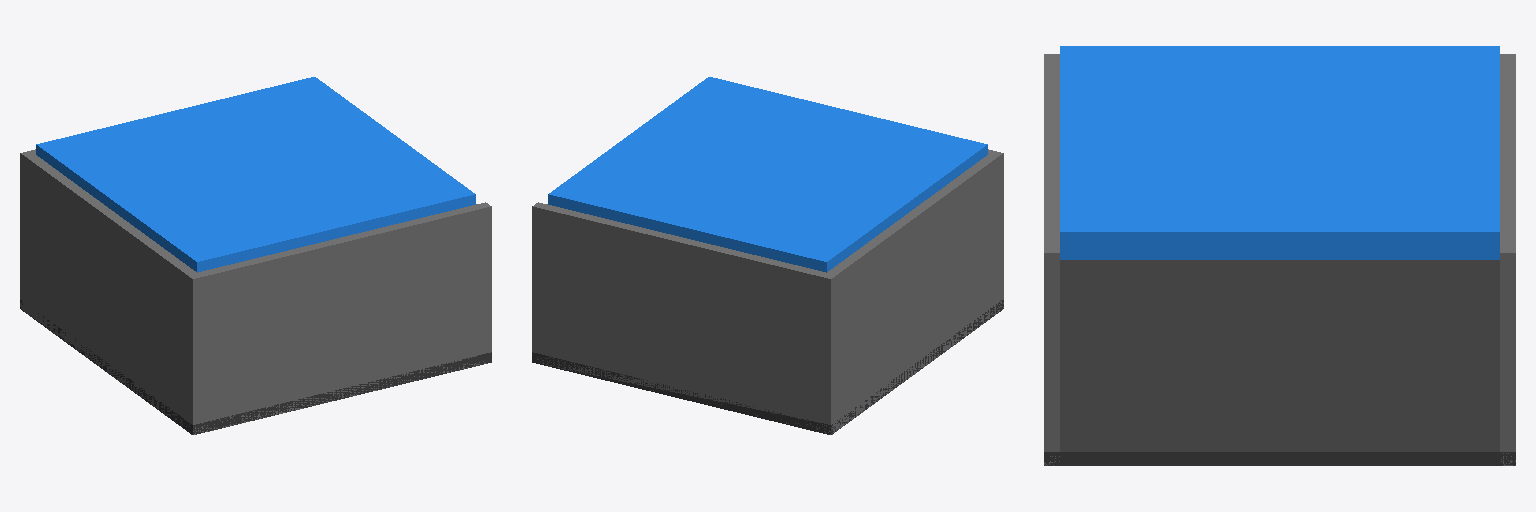
robot.urdf — reservoir:
<?xml version="1.0"?>
<robot name="reservoir">

  <!-- Base link (bottom plate of reservoir) -->
  <link name="base_link">
    <visual>
      <origin xyz="0 0 0.01" rpy="0 0 0"/>
      <geometry>
        <box size="0.6 0.6 0.02"/>
      </geometry>
      <material name="dark_grey">
        <color rgba="0.3 0.3 0.3 1.0"/>
      </material>
    </visual>
    <collision>
      <origin xyz="0 0 0.01" rpy="0 0 0"/>
      <geometry>
        <box size="0.6 0.6 0.02"/>
      </geometry>
    </collision>
    <inertial>
      <origin xyz="0 0 0.01" rpy="0 0 0"/>
      <mass value="0.5"/>
      <inertia ixx="0.01" ixy="0.0" ixz="0.0" iyy="0.01" iyz="0.0" izz="0.01"/>
    </inertial>
  </link>

  <!-- Front wall -->
  <link name="wall_front">
    <visual>
      <origin xyz="0 0 0.15" rpy="0 0 0"/>
      <geometry>
        <box size="0.6 0.02 0.3"/>
      </geometry>
      <material name="grey">
        <color rgba="0.5 0.5 0.5 1.0"/>
      </material>
    </visual>
    <collision>
      <origin xyz="0 0 0.15" rpy="0 0 0"/>
      <geometry>
        <box size="0.6 0.02 0.3"/>
      </geometry>
    </collision>
    <inertial>
      <mass value="0.1"/>
      <inertia ixx="0.001" ixy="0.0" ixz="0.0" iyy="0.001" iyz="0.0" izz="0.001"/>
    </inertial>
  </link>

  <!-- Back wall -->
  <link name="wall_back">
    <visual>
      <origin xyz="0 0 0.15" rpy="0 0 0"/>
      <geometry>
        <box size="0.6 0.02 0.3"/>
      </geometry>
      <material name="grey">
        <color rgba="0.5 0.5 0.5 1.0"/>
      </material>
    </visual>
    <collision>
      <origin xyz="0 0 0.15" rpy="0 0 0"/>
      <geometry>
        <box size="0.6 0.02 0.3"/>
      </geometry>
    </collision>
    <inertial>
      <mass value="0.1"/>
      <inertia ixx="0.001" ixy="0.0" ixz="0.0" iyy="0.001" iyz="0.0" izz="0.001"/>
    </inertial>
  </link>

  <!-- Left wall -->
  <link name="wall_left">
    <visual>
      <origin xyz="0 0 0.15" rpy="0 0 0"/>
      <geometry>
        <box size="0.02 0.56 0.3"/>
      </geometry>
      <material name="grey">
        <color rgba="0.5 0.5 0.5 1.0"/>
      </material>
    </visual>
    <collision>
      <origin xyz="0 0 0.15" rpy="0 0 0"/>
      <geometry>
        <box size="0.02 0.56 0.3"/>
      </geometry>
    </collision>
    <inertial>
      <mass value="0.1"/>
      <inertia ixx="0.001" ixy="0.0" ixz="0.0" iyy="0.001" iyz="0.0" izz="0.001"/>
    </inertial>
  </link>

  <!-- Gate link (rotating lid - thicker and bright colored) -->
  <link name="gate">
    <visual>
      <origin xyz="0 -0.28 0" rpy="0 0 0"/>
      <geometry>
        <box size="0.56 0.56 0.04"/>
      </geometry>
      <material name="bright_blue">
        <color rgba="0.2 0.6 1.0 1.0"/>
      </material>
    </visual>
    <collision>
      <origin xyz="0 -0.28 0" rpy="0 0 0"/>
      <geometry>
        <box size="0.56 0.56 0.04"/>
      </geometry>
    </collision>
    <inertial>
      <origin xyz="0 -0.28 0" rpy="0 0 0"/>
      <mass value="0.3"/>
      <inertia ixx="0.005" ixy="0.0" ixz="0.0" iyy="0.005" iyz="0.0" izz="0.005"/>
    </inertial>
  </link>

  <!-- Fixed joints for walls -->
  <joint name="wall_front_joint" type="fixed">
    <parent link="base_link"/>
    <child link="wall_front"/>
    <origin xyz="0 -0.29 0" rpy="0 0 0"/>
  </joint>

  <joint name="wall_back_joint" type="fixed">
    <parent link="base_link"/>
    <child link="wall_back"/>
    <origin xyz="0 0.29 0" rpy="0 0 0"/>
  </joint>

  <joint name="wall_left_joint" type="fixed">
    <parent link="base_link"/>
    <child link="wall_left"/>
    <origin xyz="-0.29 0 0" rpy="0 0 0"/>
  </joint>

  <!-- Revolute joint for gate (rotates around X-axis at the back edge) -->
  <joint name="gate_joint" type="revolute">
    <parent link="base_link"/>
    <child link="gate"/>
    <origin xyz="0 0.28 0.3" rpy="0 0 0"/>
    <axis xyz="1 0 0"/>
    <limit lower="0" upper="1.57" effort="10" velocity="2.0"/>
  </joint>

</robot>

--- Facts derived from the render (not from the file) ---
3 views of the same robot in one strip: view 1: azimuth 30°, elevation 25°; view 2: azimuth 150°, elevation 25°; view 3: azimuth 270°, elevation 25° (orthographic).
Model reservoir with 5 links and 4 joints (1 revolute, 3 fixed), rooted at base_link, posed all joints at 0.
Visible links, largest first — view 1: gate, wall_front, wall_left, base_link, wall_back; view 2: gate, wall_back, wall_left, base_link, wall_front; view 3: gate, base_link, wall_back, wall_front.
Link boxes in pixels (x1,y1,x2,y2): gate: (36, 77, 475, 272); wall_front: (187, 202, 491, 434); wall_left: (26, 155, 196, 430); base_link: (20, 300, 491, 434); wall_back: (20, 149, 35, 312); gate: (548, 77, 987, 272); wall_back: (532, 202, 836, 434); wall_left: (827, 155, 997, 430); base_link: (532, 300, 1003, 434); wall_front: (988, 149, 1003, 311); gate: (1060, 46, 1499, 259); base_link: (1044, 260, 1515, 465); wall_back: (1500, 54, 1515, 465); wall_front: (1044, 54, 1059, 465).
Size in the robot's own frame: 0.6 by 0.6 by 0.32 metres.
Geometry: primitives only (box / cylinder / sphere), no mesh files.
